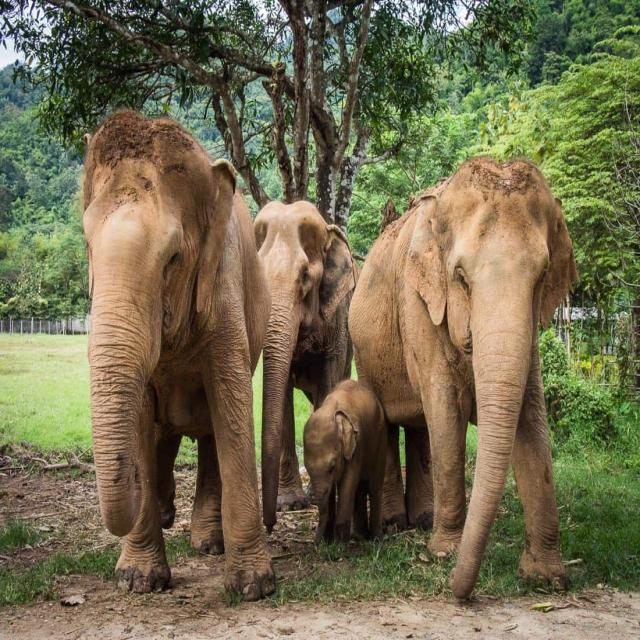Elephant: (344, 154, 579, 610), (80, 111, 272, 598), (240, 199, 353, 534), (305, 375, 390, 550)
